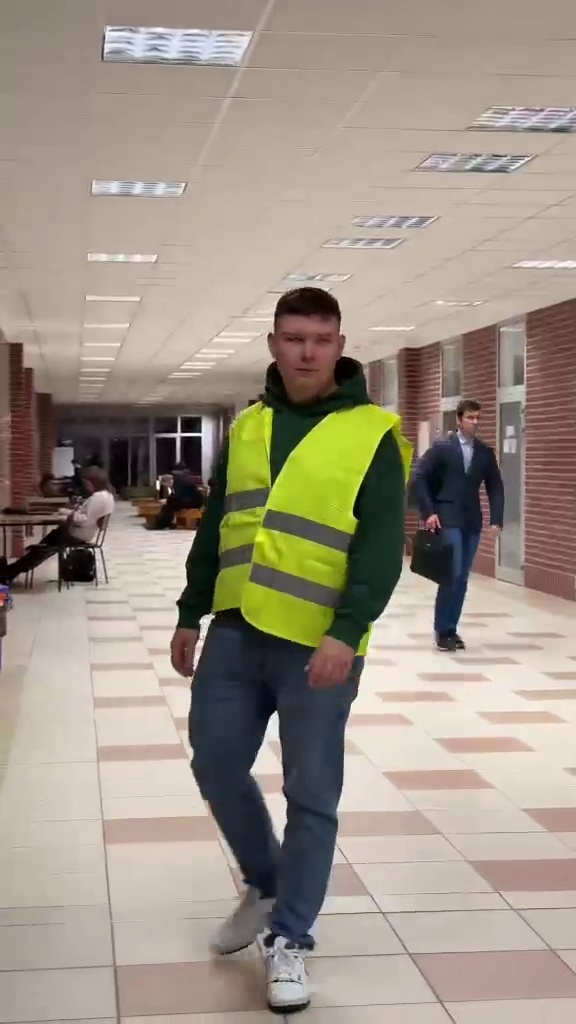no vest: (412, 396, 504, 665), (4, 452, 117, 594)
vest: (182, 286, 412, 1024)
